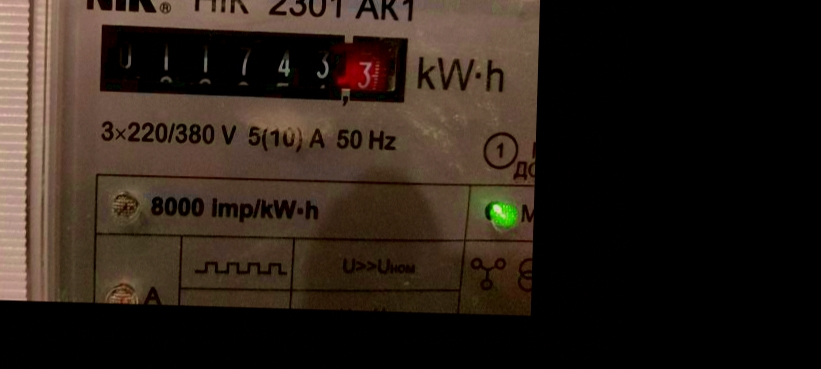0: (113, 35, 133, 71)
1: (196, 38, 212, 73), (159, 37, 170, 71)
3: (310, 45, 330, 80), (354, 58, 373, 92)
4: (273, 44, 291, 78)
7: (234, 41, 253, 76)
screen: (83, 11, 420, 115)
